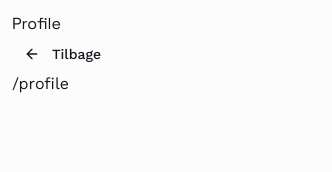
Test: BackButton — always goes one step back › only moves ONE step back per click (multiple clicks step one-by-one)
Check: the text with test id "pathname" reads "/profile", box [12,74,69,93]
Click the button with aria-label "forrige side" at (63, 54), box [12,36,113,72]
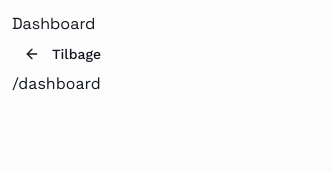
Check: the text with test id "pathname" reads "/dashboard", box [12,74,101,93]
Click the button with aria-label "forrige side" at (63, 54), box [12,36,113,72]
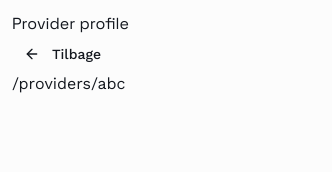
Check: the text with test id "pathname" reads "/providers/abc", box [12,74,125,93]
Click the button with aria-label "forrige side" at (63, 54), box [12,36,113,72]
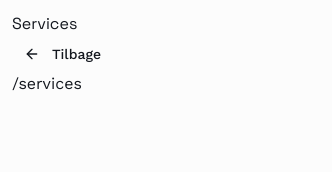
Check: the text with test id "pathname" reads "/services", box [12,74,82,93]
